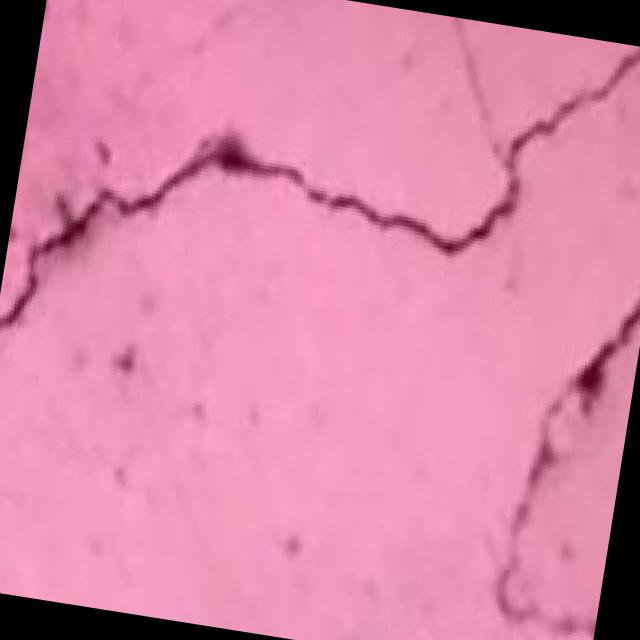crack: (0, 58, 640, 558)
